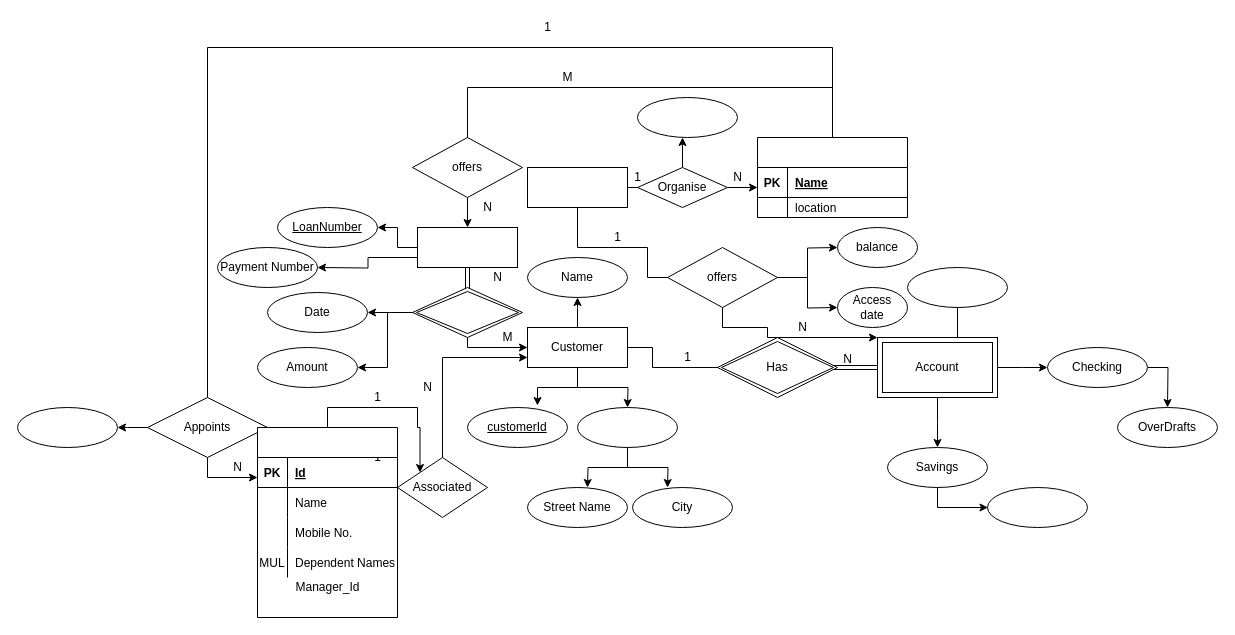
Image size: 1235x635. Some labels were removed from this diagram. Each missing label, with the box of its shape:
AccountId: (906, 266, 1008, 308)
Address: (576, 406, 678, 448)
Applies For: (412, 286, 522, 338)
Assets: (636, 96, 738, 138)
Bank: (526, 166, 628, 208)
Branch: (756, 136, 908, 218)
Employee: (256, 426, 398, 618)
Interest Rate: (986, 486, 1088, 528)
Loan: (416, 226, 518, 268)
Start Date: (16, 406, 118, 448)
